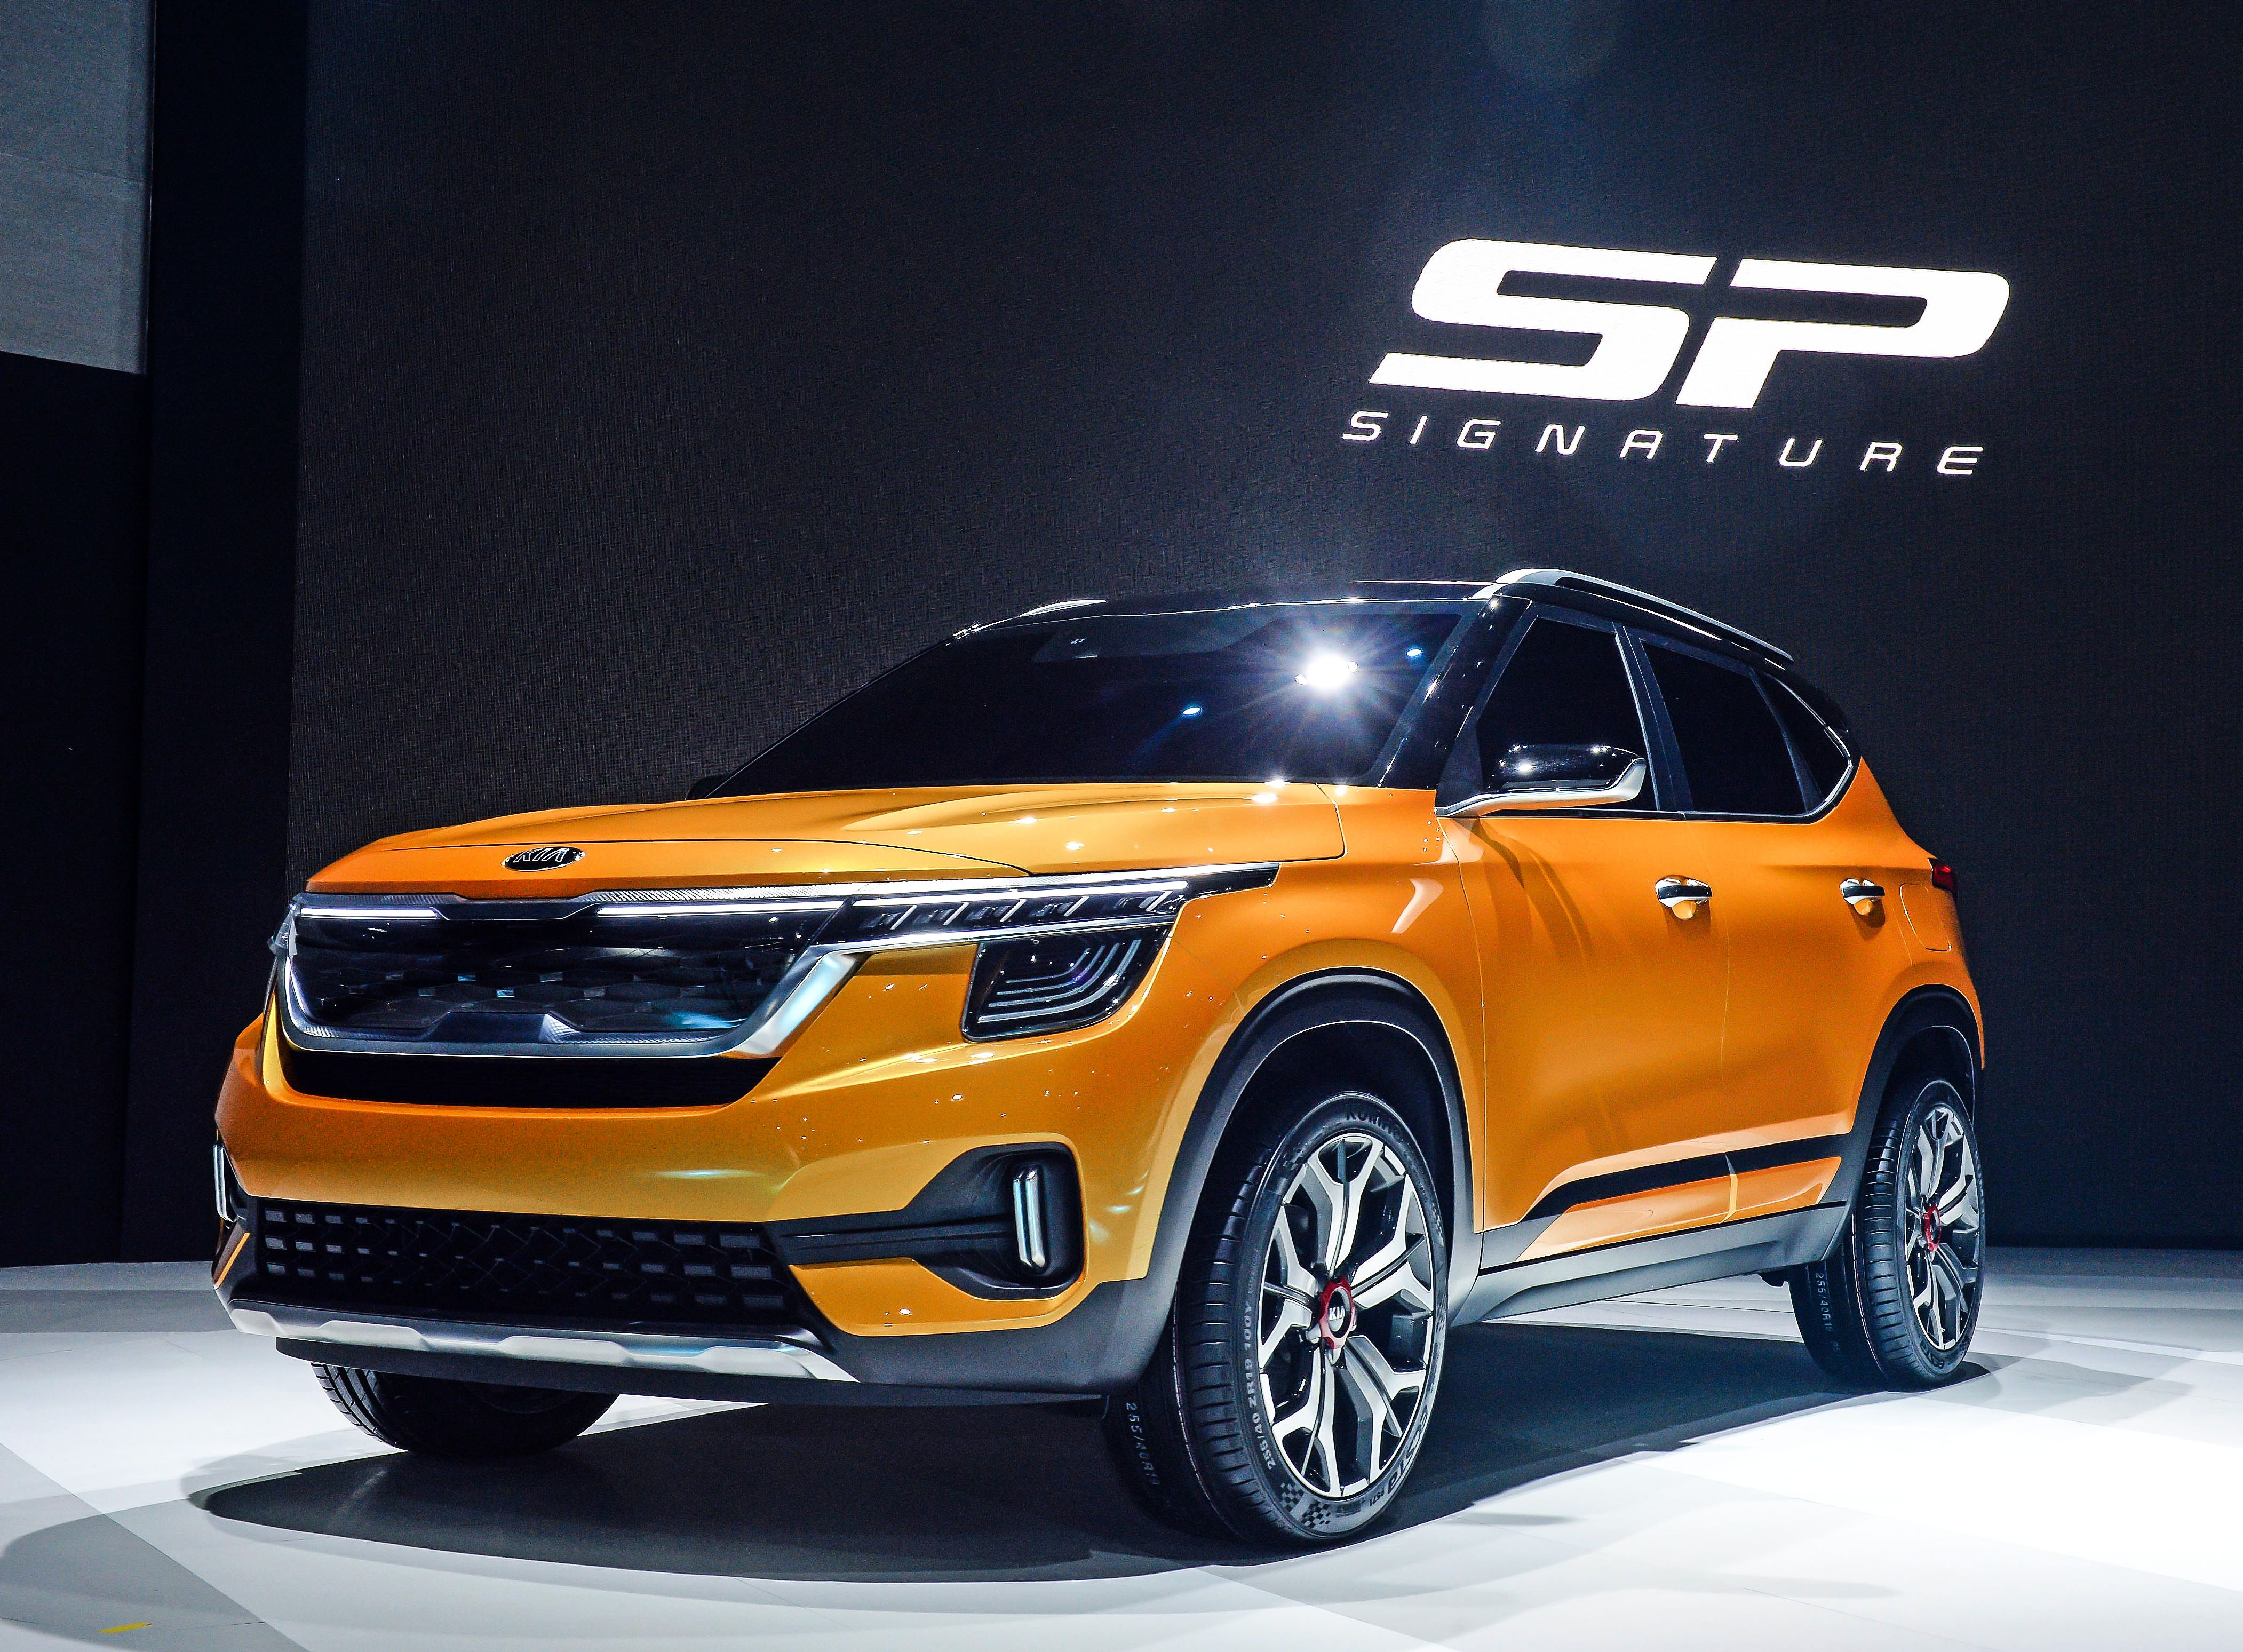car: (202, 564, 1985, 1551)
